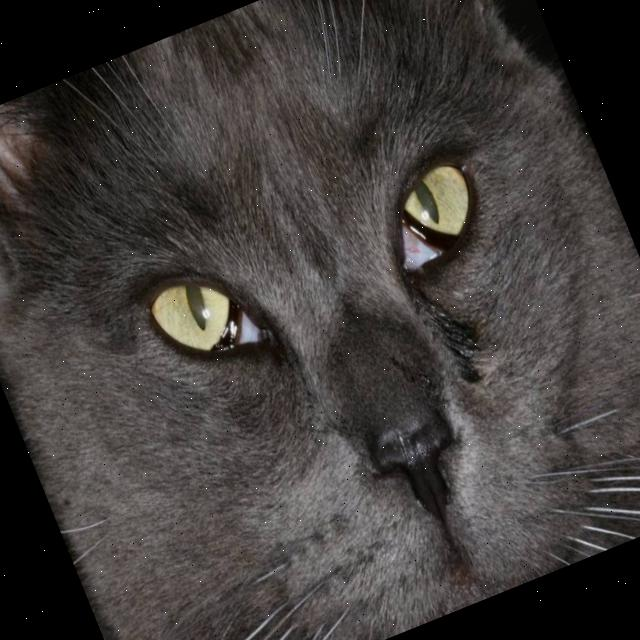cat-eye: (334, 124, 548, 374), (124, 236, 309, 434)
